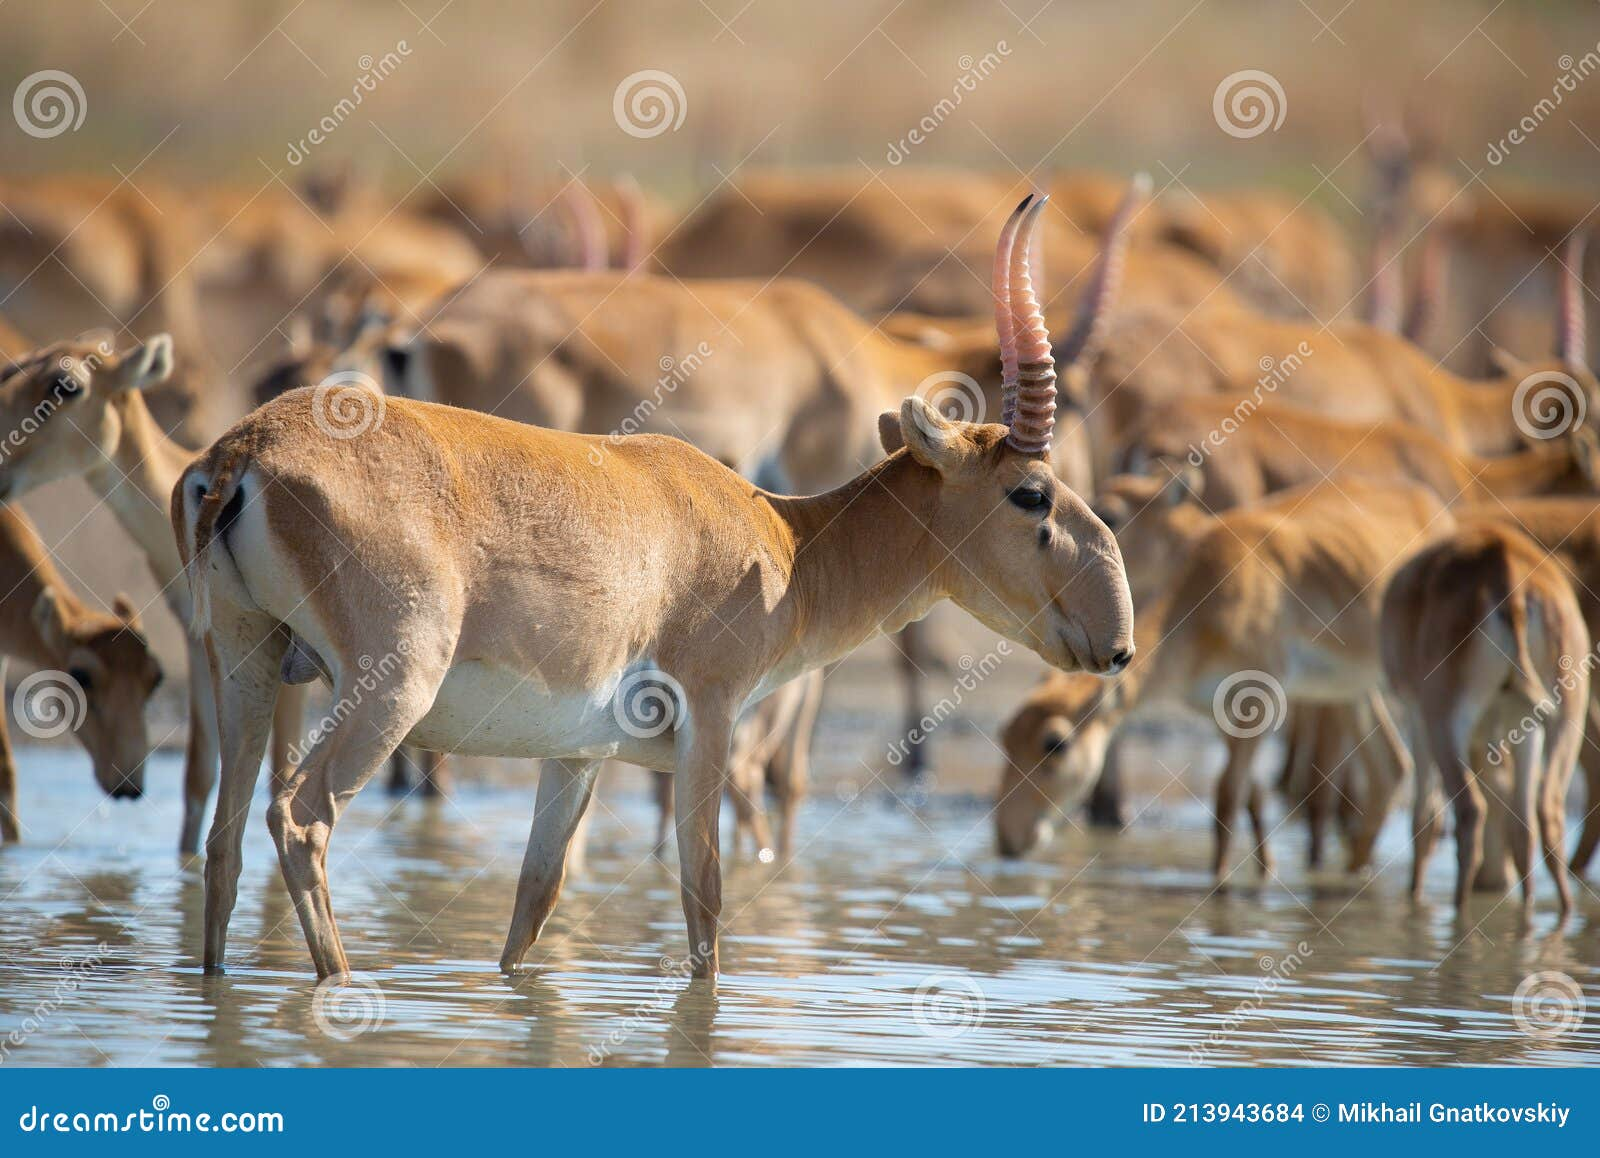saiga: (160, 180, 1125, 1110)
